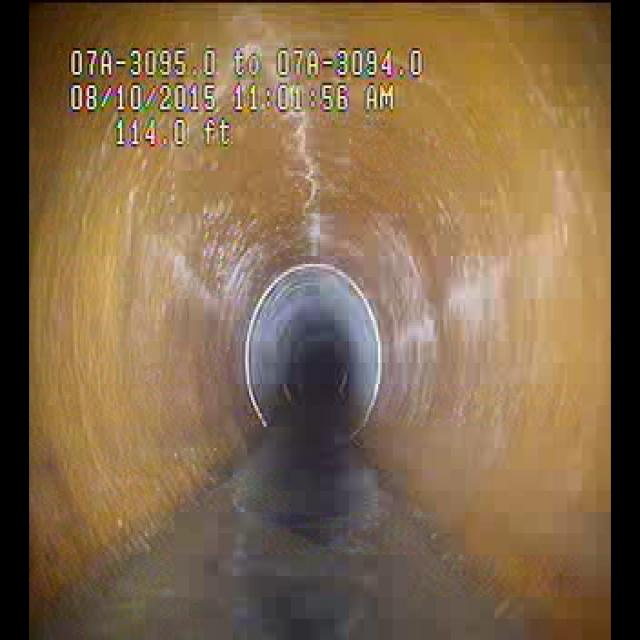Crack: (284, 154, 336, 256)
